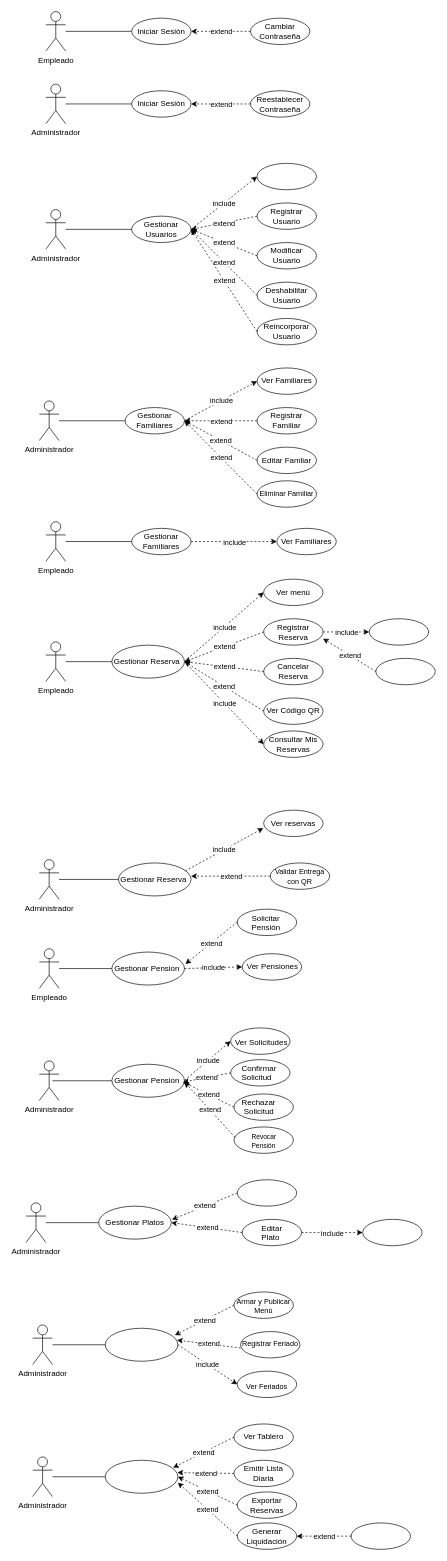
Image size: 447x1561. Some labels were removed from this diagram. The centre of each missing label's shape, as x and y in pixels:
Exportar Planilla: pixel 380 1535
Generar Reportes: pixel 141 1476
Gestionar Menu: pixel 141 1344
Notificar Cambio: pixel 392 1232
Notificar Reserva: pixel 399 631
Registrar Plato: pixel 267 1192
Reservar para Familiares: pixel 405 671
Ver Usuarios: pixel 286 176
